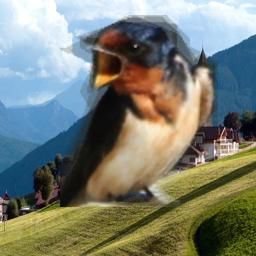Swallow: (60, 15, 218, 207)
